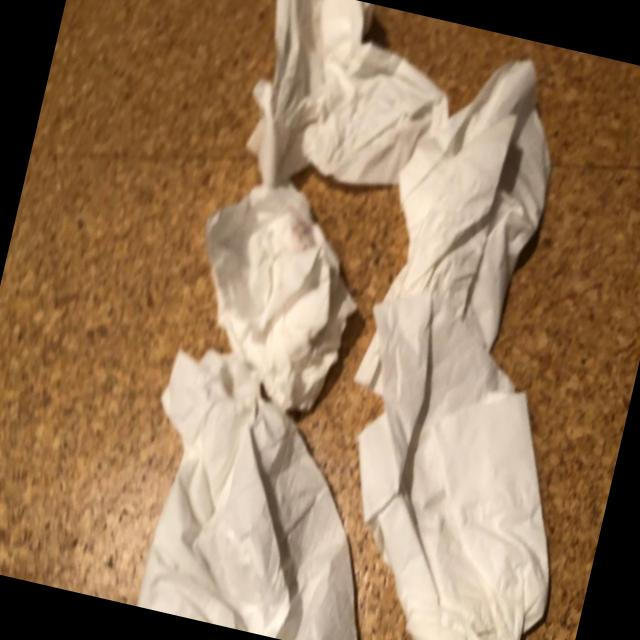organic waste: (274, 32, 640, 640), (112, 340, 426, 640), (160, 168, 380, 426), (230, 0, 470, 217)
